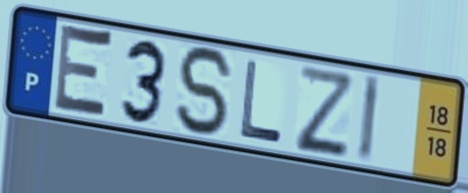3: (117, 37, 169, 127)
E: (50, 19, 117, 125)
I: (354, 71, 383, 167)
L: (238, 57, 286, 146)
S: (174, 43, 238, 140)
Z: (294, 61, 354, 157)
